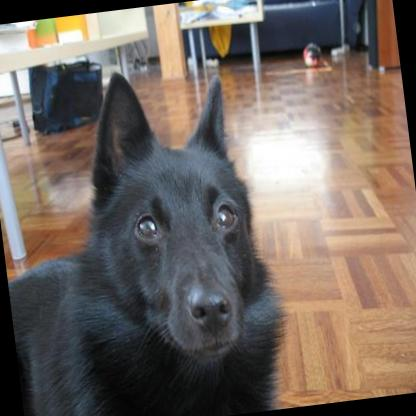schipperke: (0, 52, 294, 416)
